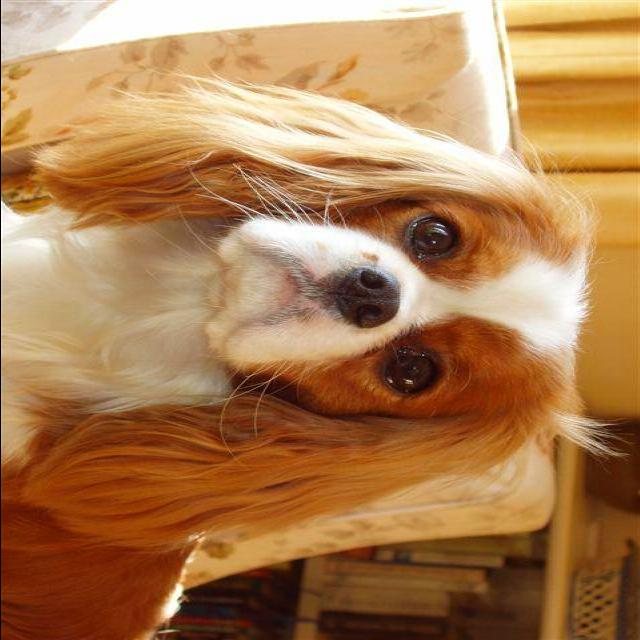blenheim_spaniel: (2, 70, 628, 638)
